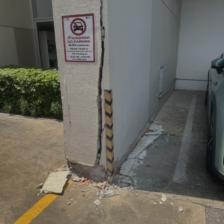High: (77, 1, 116, 180)
